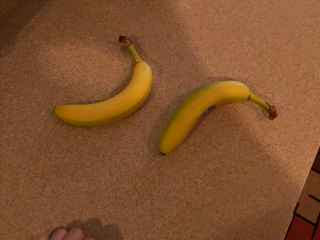banana: (52, 33, 155, 131), (157, 79, 279, 158)
